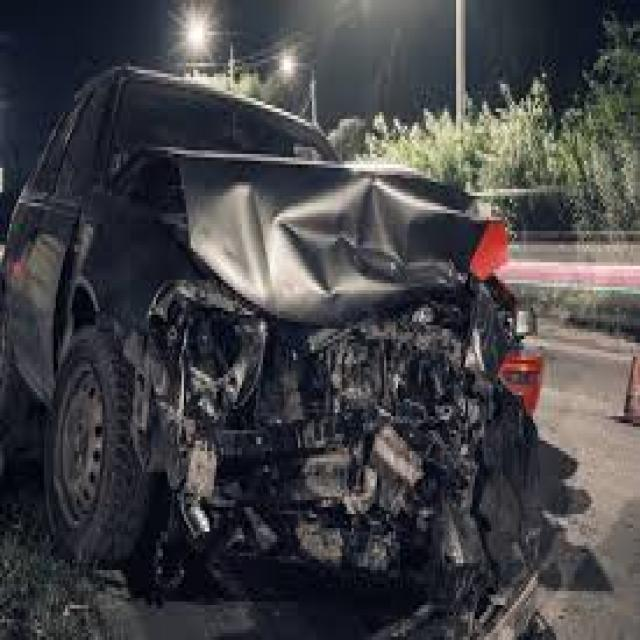accident: (33, 72, 550, 582)
